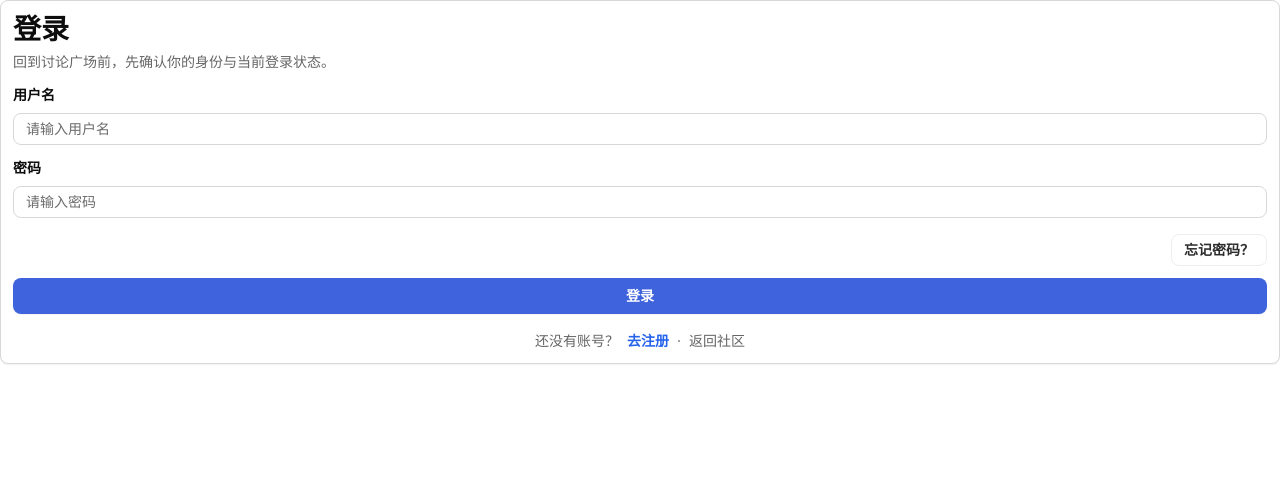
Test: LoginView › refreshes captcha when backend response body says captcha is required
Type "alice" into the field labelled "用户名". click: coordinates (640, 129)
box: [13,113,1267,145]
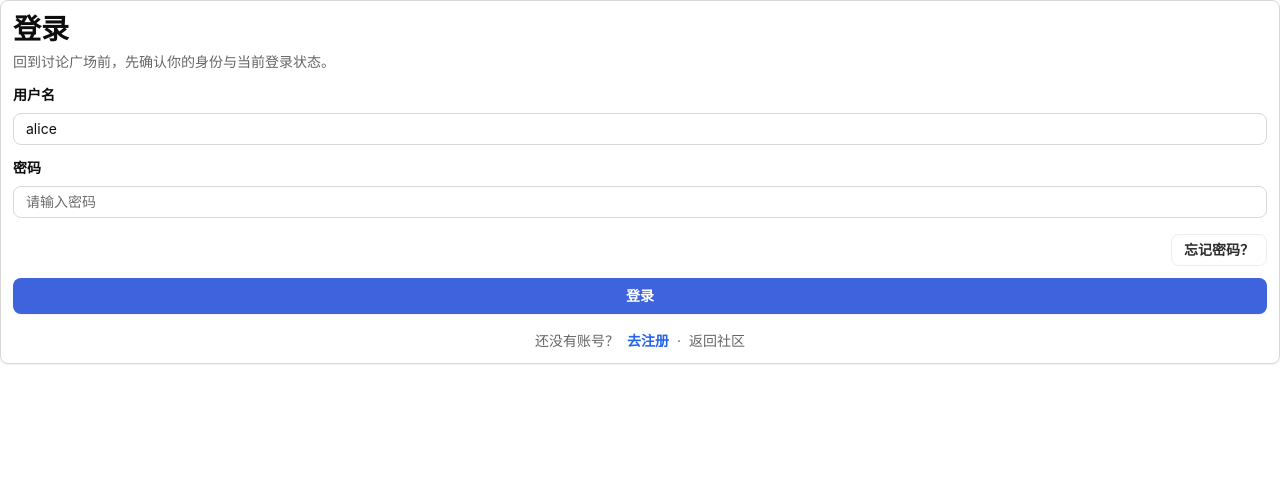
Type "secret12" into the password field labelled "密码". click: coordinates (640, 202)
box: [13,186,1267,218]
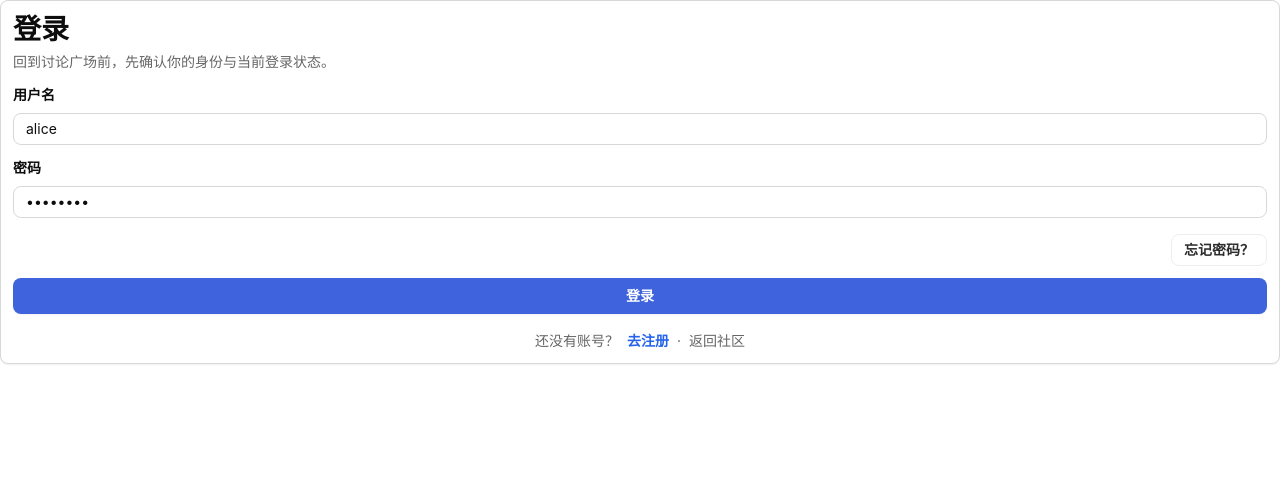
Submit the form, box [13,84,1267,351]
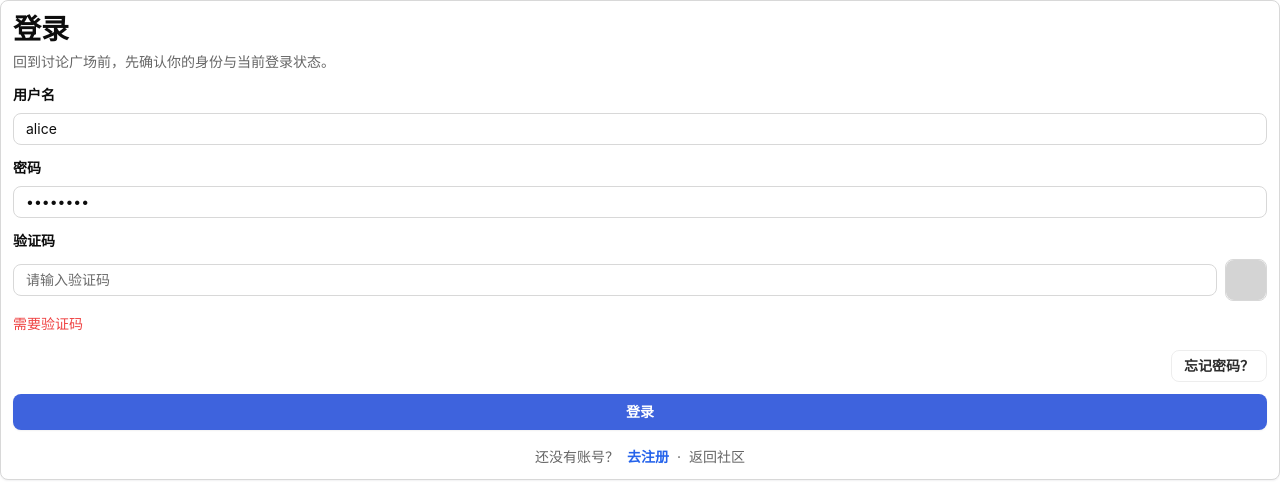
Expected: the text "需要验证码" is shown, [13,315,83,332]
